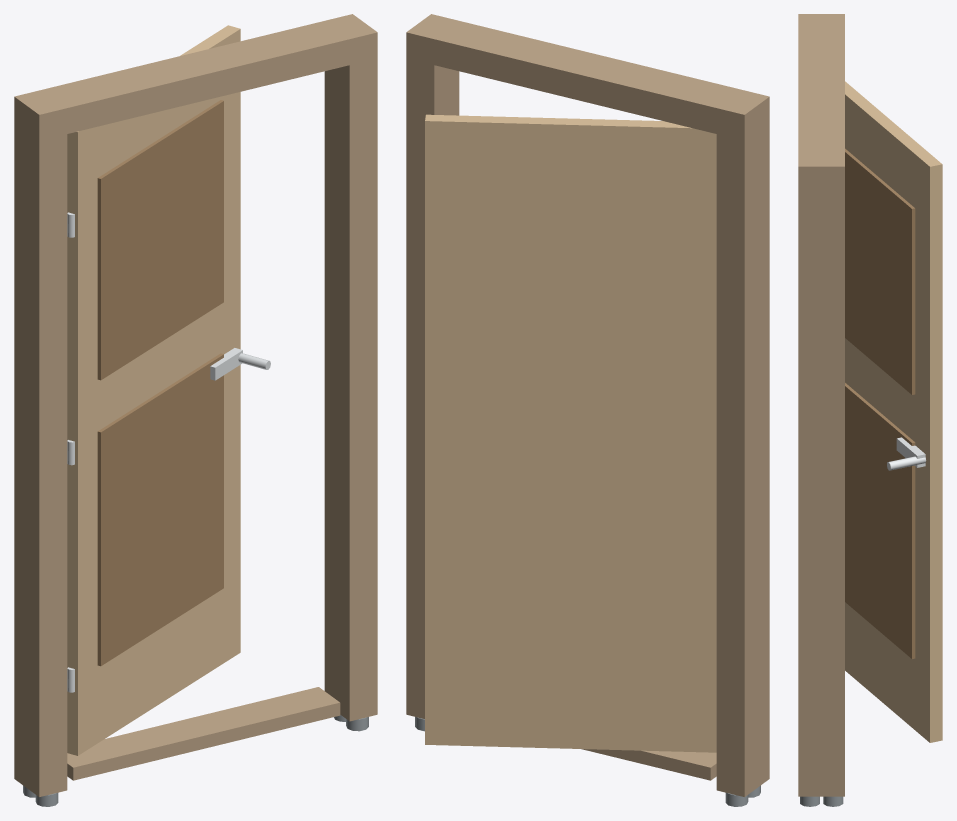
The model's file is stage_door.glb.
3 renders of one model, left to right at view 1: azimuth 30°, elevation 25°; view 2: azimuth 150°, elevation 25°; view 3: azimuth 270°, elevation 25°, orthographic. The views are drawn at different scales.
Parts seen in each view (by area): view 1: stage_door, latch; view 2: stage_door; view 3: stage_door, latch.
Part boxes in pixels (<box>): stage_door: <box>14,14,377,806</box>; latch: <box>210,348,270,380</box>; stage_door: <box>406,14,769,806</box>; stage_door: <box>798,14,942,806</box>; latch: <box>887,437,926,470</box>.
Size of the model in its own units: 1.09 by 2.14 by 0.4349.
